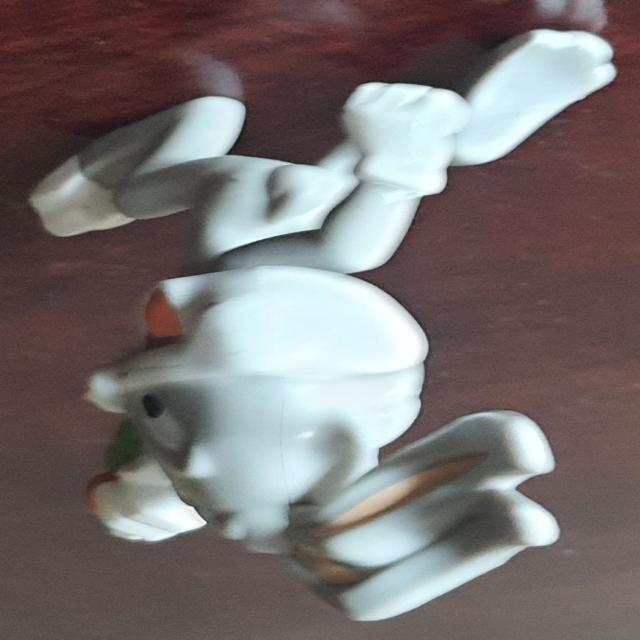Rabbit: (28, 28, 618, 622)
